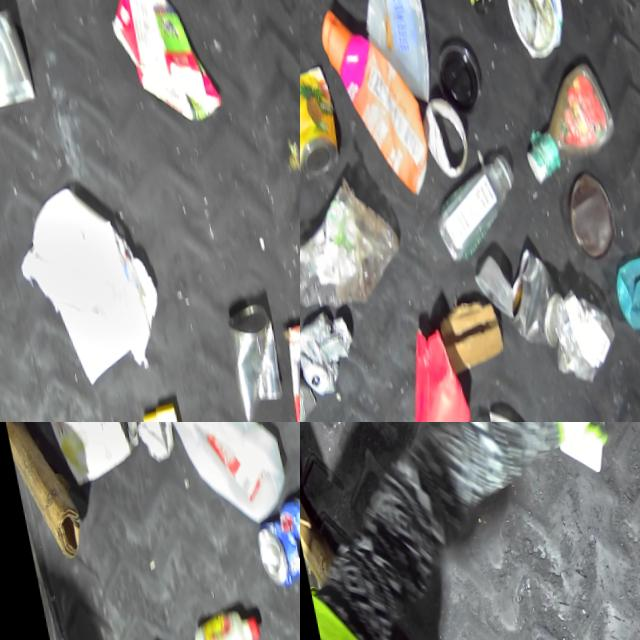can: (210, 302, 281, 422), (487, 238, 555, 355), (232, 482, 300, 593), (490, 0, 570, 76), (300, 58, 342, 181), (0, 0, 36, 127)
milk_jug: (142, 422, 284, 539)
non_white_jug: (310, 0, 433, 214)
